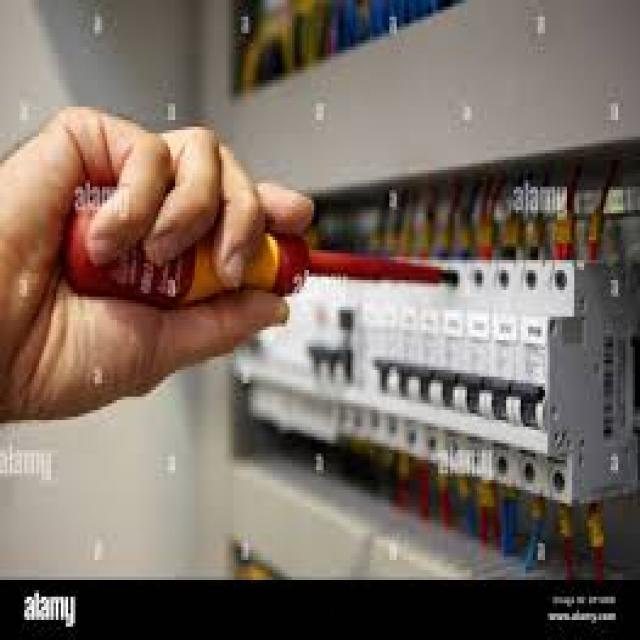screwdriver: (67, 182, 466, 302)
